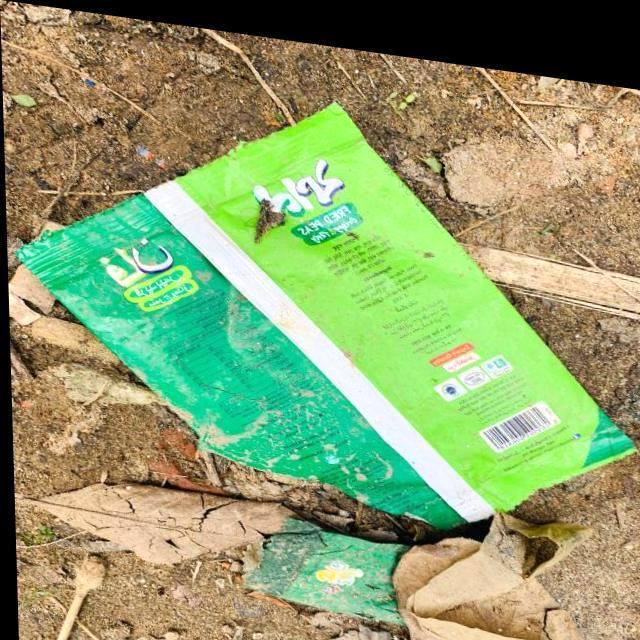packet: (23, 29, 640, 640), (256, 513, 399, 620)
